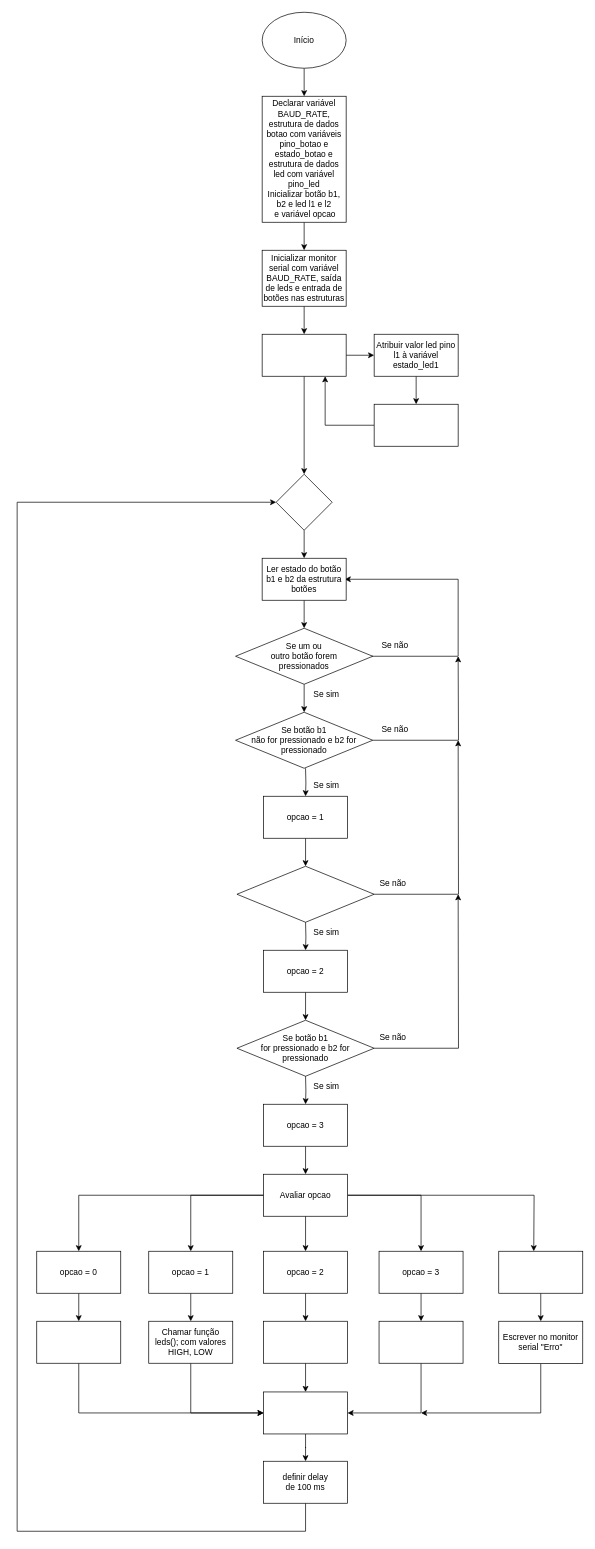
Some shapes in this 595 by 1549 pixel diagram are drawn without their labels. Here are the shapes that lost their labels. From the top down, the centre of each, then its label:
At (x=303, y=355): "Definir função leds()".
At (x=415, y=425): "Atribuir valor led pino l2 à variável estado_led2".
At (x=303, y=502): "Repetir sempre".
At (x=305, y=894): "Se botão b1 for pressionado e b2 não for pressionado".
At (x=540, y=1272): "default".
At (x=78, y=1342): "Chamar função leds(); com valores LOW, LOW".
At (x=305, y=1342): "Chamar função leds(); com valores LOW, HIGH".
At (x=420, y=1342): "Chamar função leds(); com valores HIGH, HIGH".
At (x=305, y=1412): "definir delay de 300 ms".
